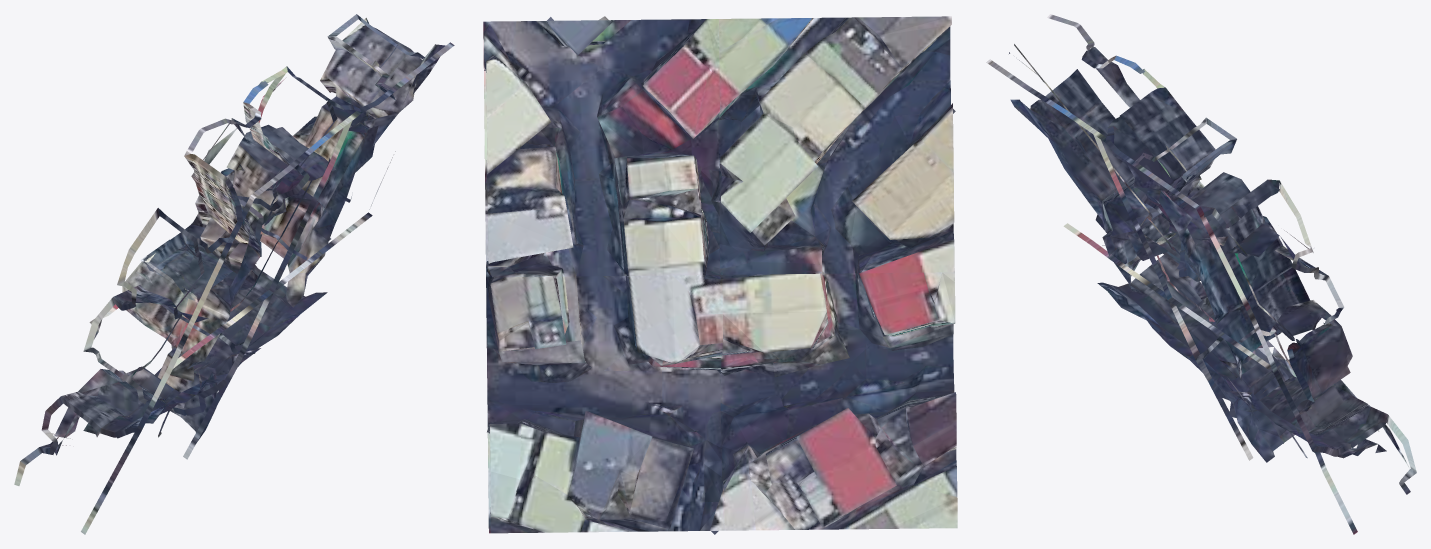
3 views of the same model, side by side, from view 1: azimuth 30°, elevation 25°; view 2: azimuth 150°, elevation 25°; view 3: azimuth 270°, elevation 25° (orthographic). The views are drawn at different scales.
Bounding box in the file's own units: 83.1 × 76.01 × 73.78.
1 material, 1 textured.
